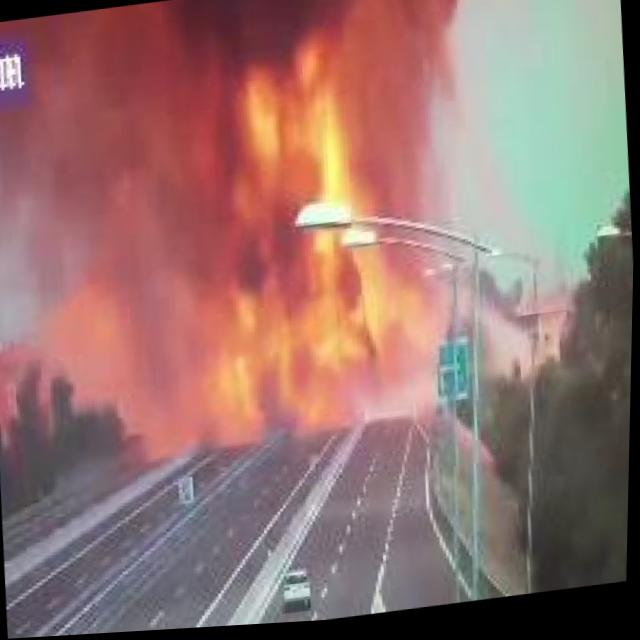fire: (186, 5, 455, 467)
